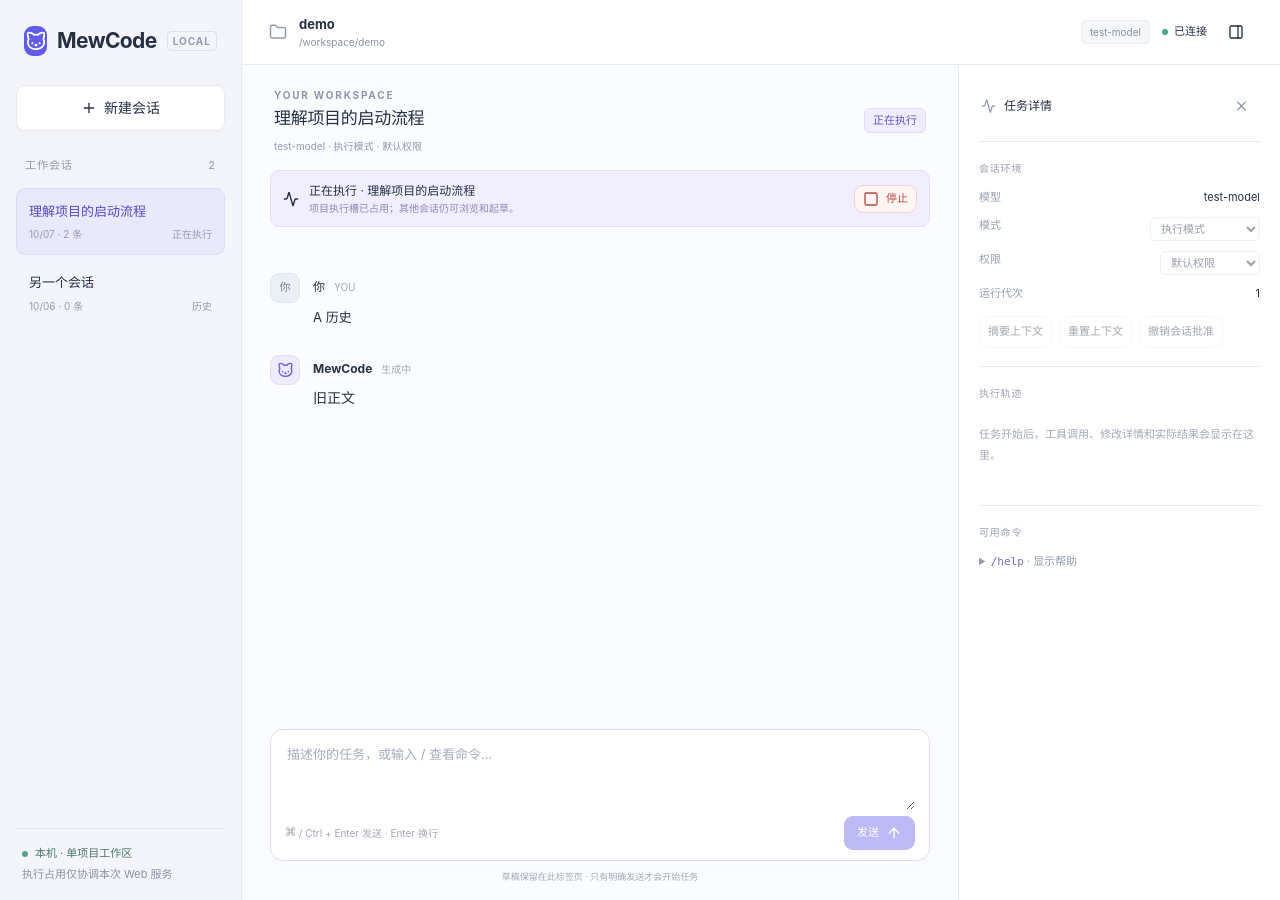
Test case: 正文合并期间停止使用最新权威版本，列表失败单独提示且不重发已确认操作
The image size is (1280, 900).
Expected: the text "已连接" is shown, [1162, 23, 1207, 41]
Expected: the button "理解项目的启动流程 10/07 · 2 条 正在执行" is shown, [16, 188, 225, 255]
Click the button "停止": click(886, 199) [854, 185, 917, 213]
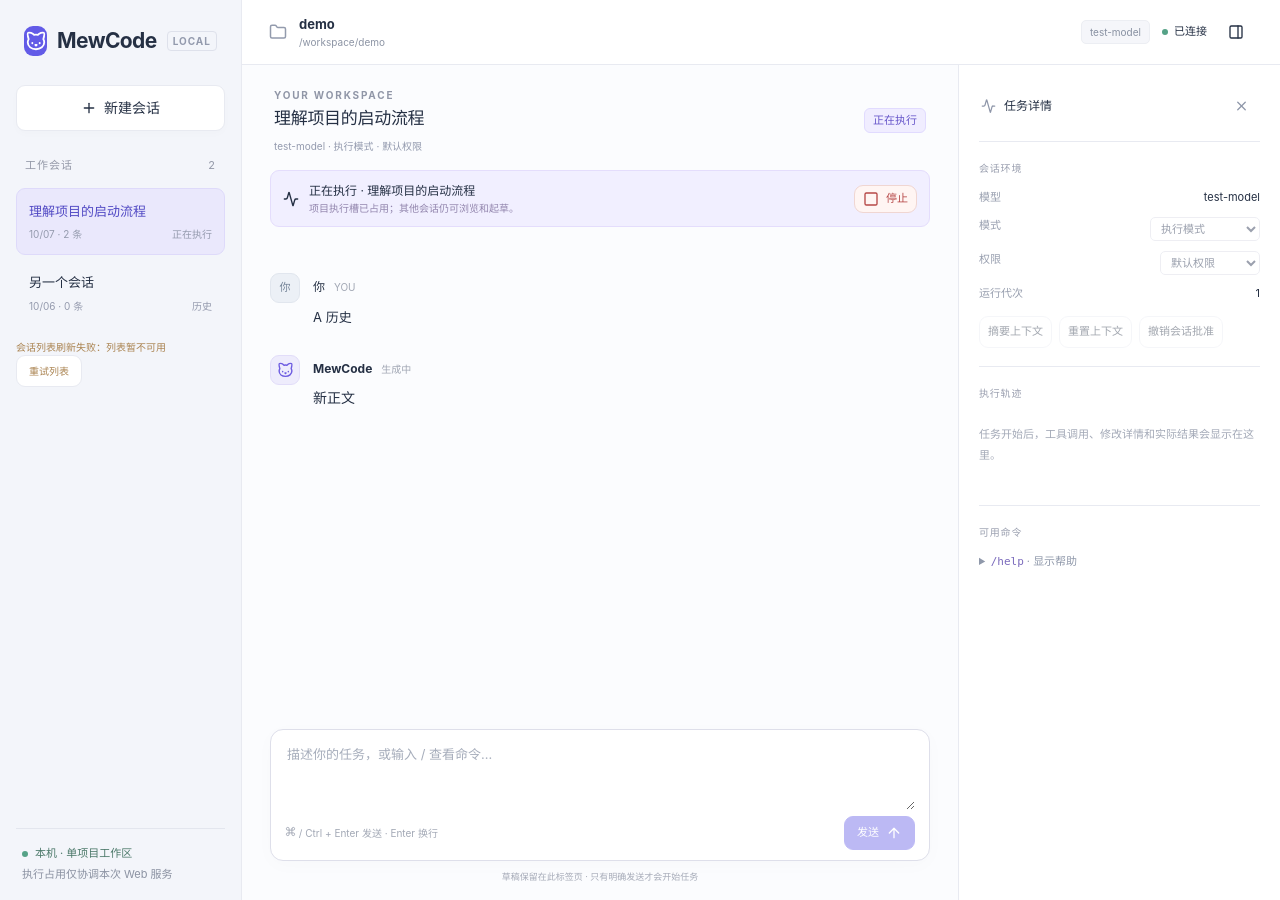
Expected: the text "会话列表刷新失败：列表暂不可用 重试列表" is shown, [16, 341, 166, 387]
